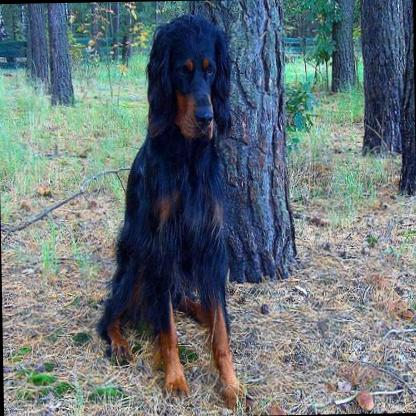Gordon_setter: (86, 11, 258, 412)
